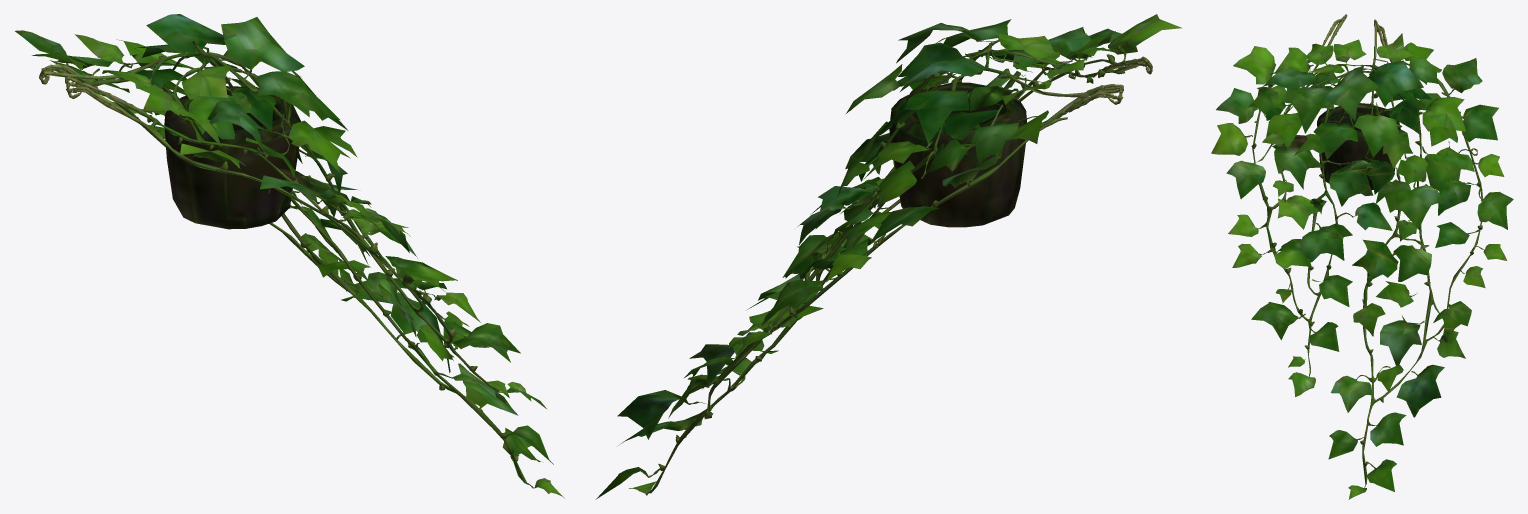
File: vine-branch-b.lod1.glb
3 renders of one model, left to right at view 1: azimuth 30°, elevation 25°; view 2: azimuth 150°, elevation 25°; view 3: azimuth 270°, elevation 25°, orthographic. The views are drawn at different scales.
Visible parts, largest first — view 1: Object_4; view 2: Object_4; view 3: Object_4.
Part boxes in pixels (bbox=[...]): Object_4: bbox=[15, 14, 564, 498]; Object_4: bbox=[595, 14, 1181, 499]; Object_4: bbox=[1211, 14, 1513, 499].
Size of the model in its own units: 2.93 by 3 by 2.45.
1 material, 1 textured.
